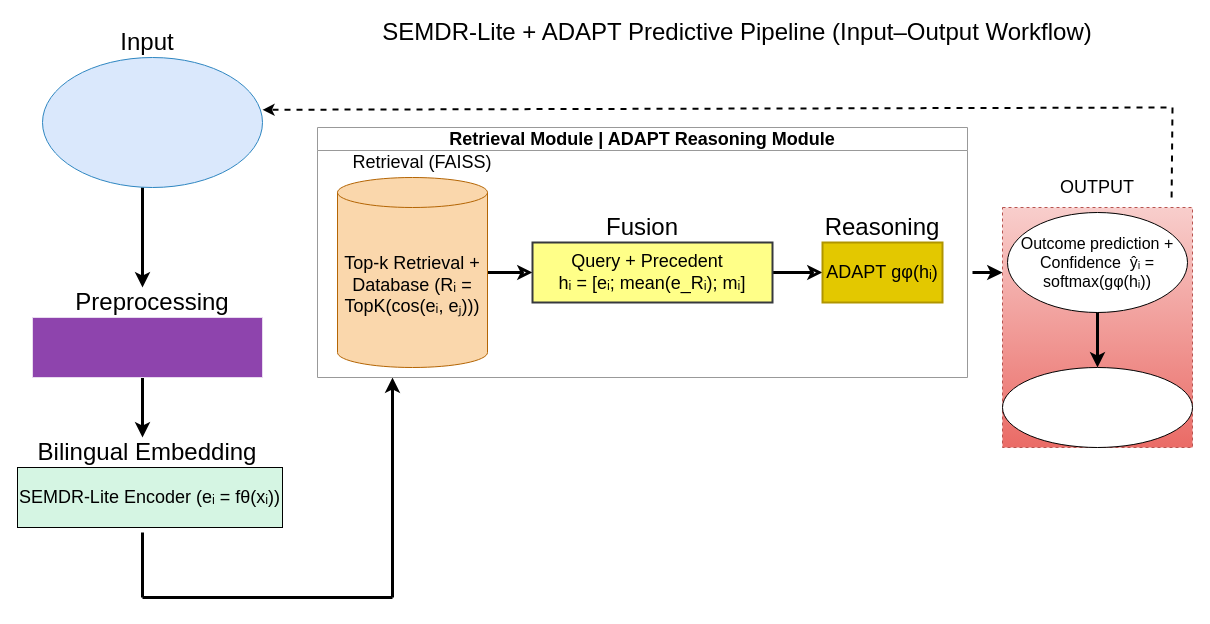
Image size: 1210x624. Some labels were removed from this diagram. Each missing label, with the centre of its shape:
Cleaning & Structuring: the point at 147,347
LIME/SHAP + Governance Indicators: the point at 1097,407
Raw Case Text + Metadata: the point at 152,122
